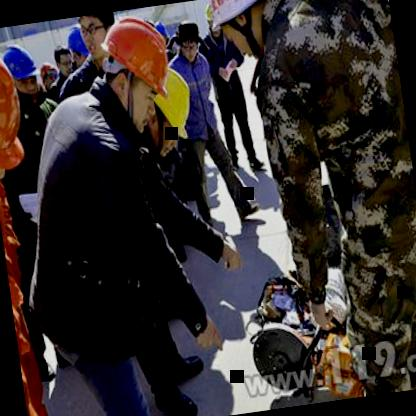head: (75, 11, 119, 62), (171, 13, 204, 68)
helmet: (94, 10, 171, 136), (144, 63, 198, 160), (0, 26, 29, 195), (207, 0, 279, 58), (0, 38, 41, 99), (63, 26, 90, 69), (36, 57, 61, 89)
